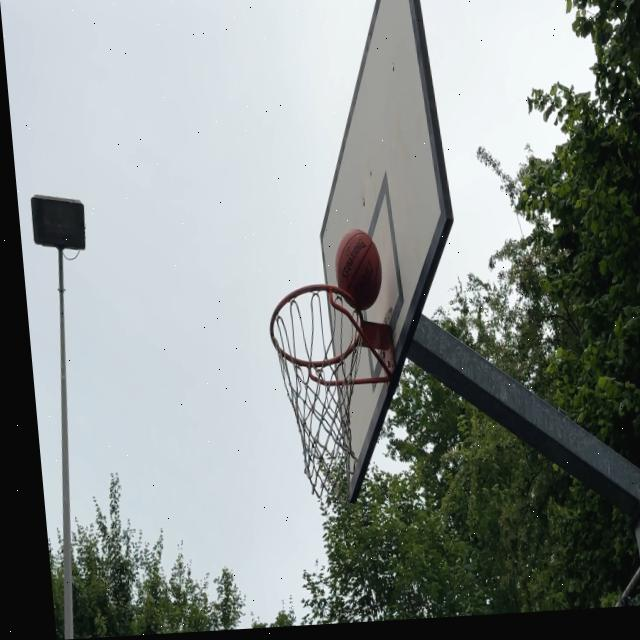rebound_hit: (333, 231, 385, 312)
